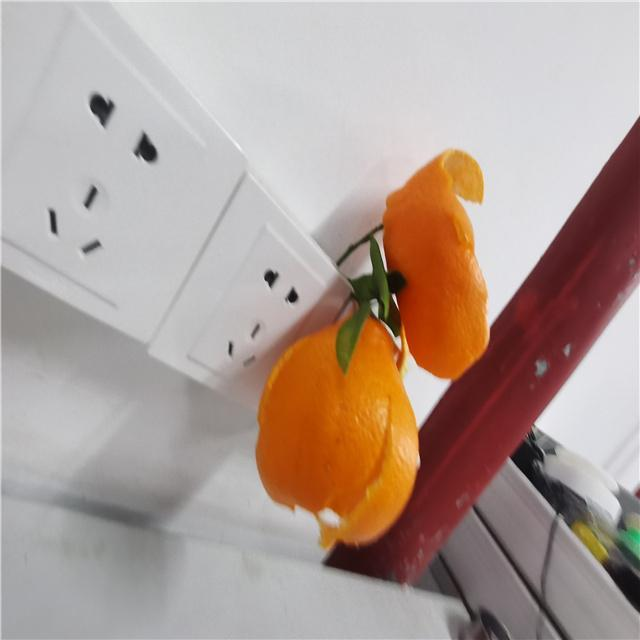orange-peel: (254, 309, 421, 549), (381, 147, 490, 379)
